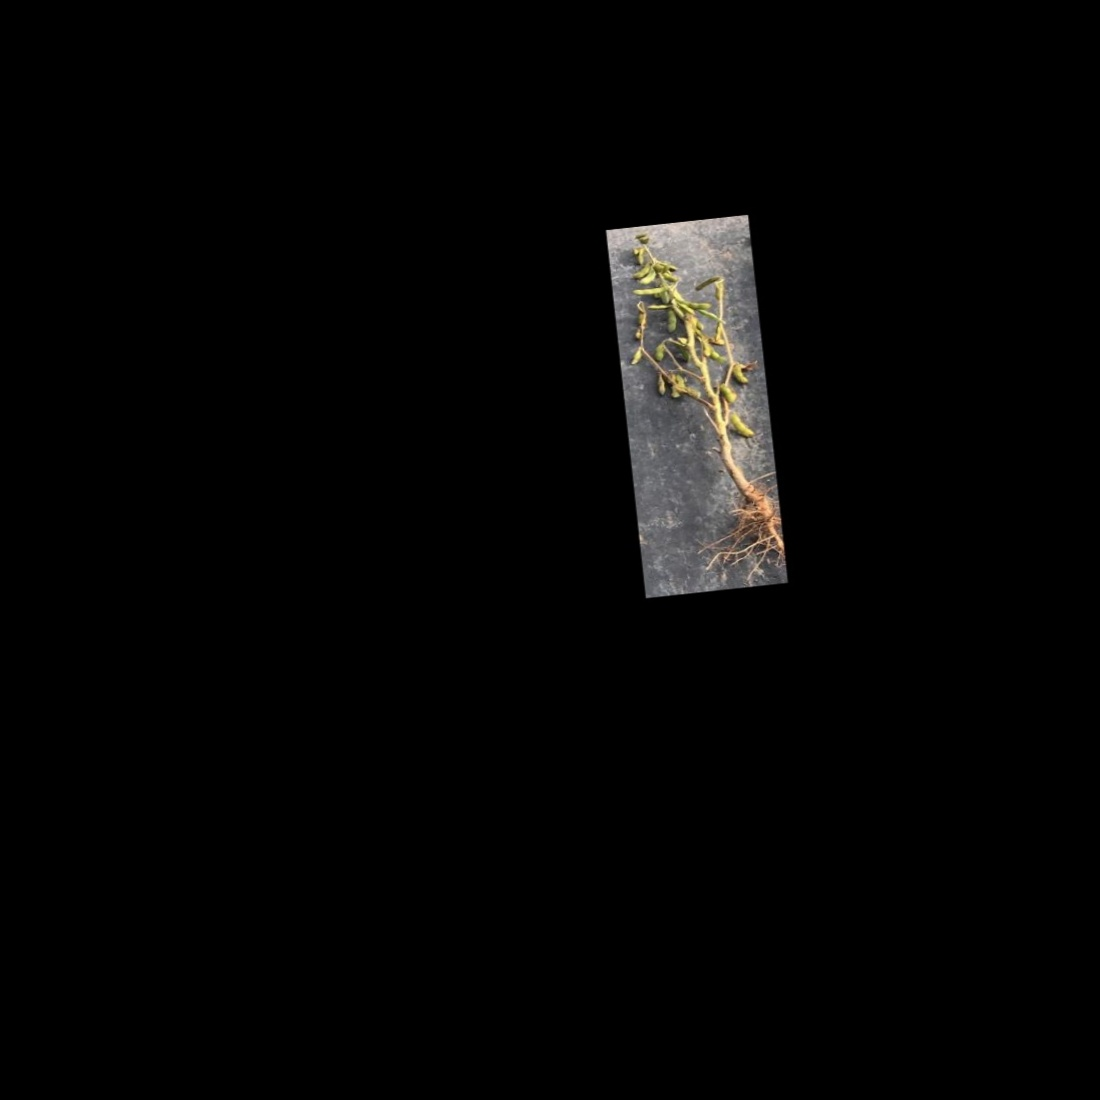pod: (728, 408, 757, 442), (629, 283, 670, 298), (692, 273, 720, 292), (730, 362, 750, 388), (683, 298, 715, 313), (650, 374, 668, 399), (661, 308, 679, 333), (625, 346, 644, 369), (650, 341, 666, 361), (635, 244, 647, 267)
soy: (610, 217, 774, 561)
